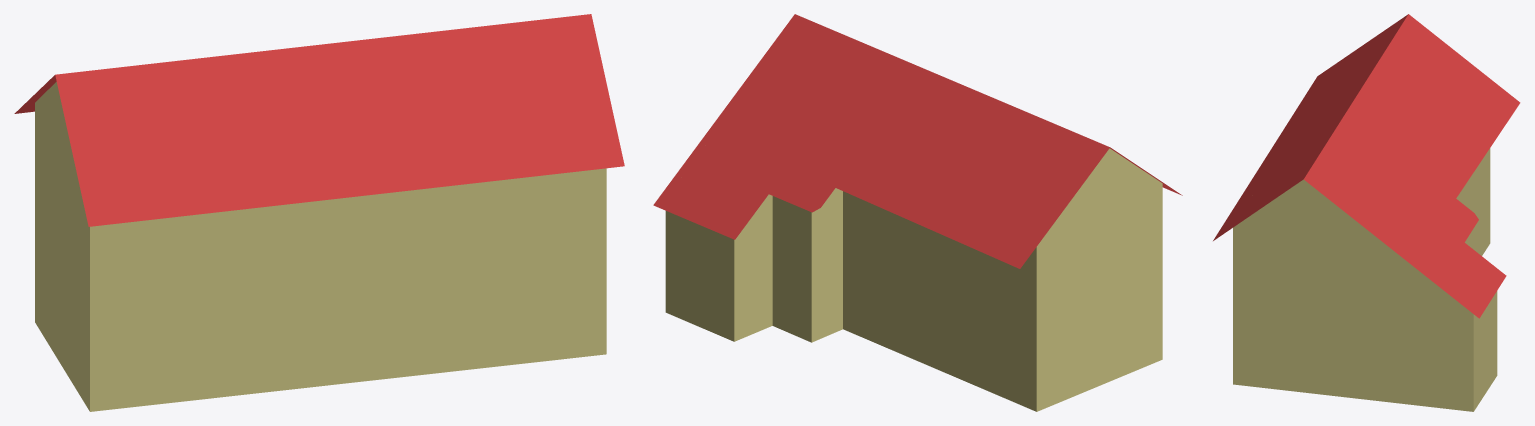
3 renders of one model, left to right at view 1: azimuth 30°, elevation 25°; view 2: azimuth 150°, elevation 25°; view 3: azimuth 270°, elevation 25°, orthographic. The views are drawn at different scales.
Size of the model in its own units: 28.76 by 19.14 by 14.86.
